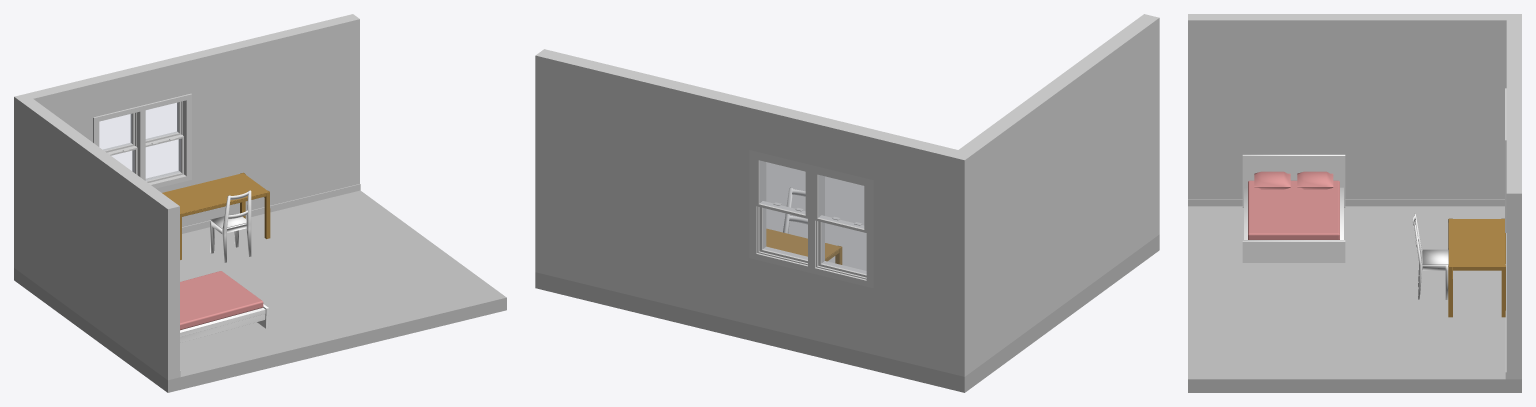
File: L14_W18_furniture2_daylight1.glb
3 views of the same model, side by side, from view 1: azimuth 30°, elevation 25°; view 2: azimuth 150°, elevation 25°; view 3: azimuth 270°, elevation 25° (orthographic). The views are drawn at different scales.
Bounding box in the file's own units: 224 × 116 × 176.
